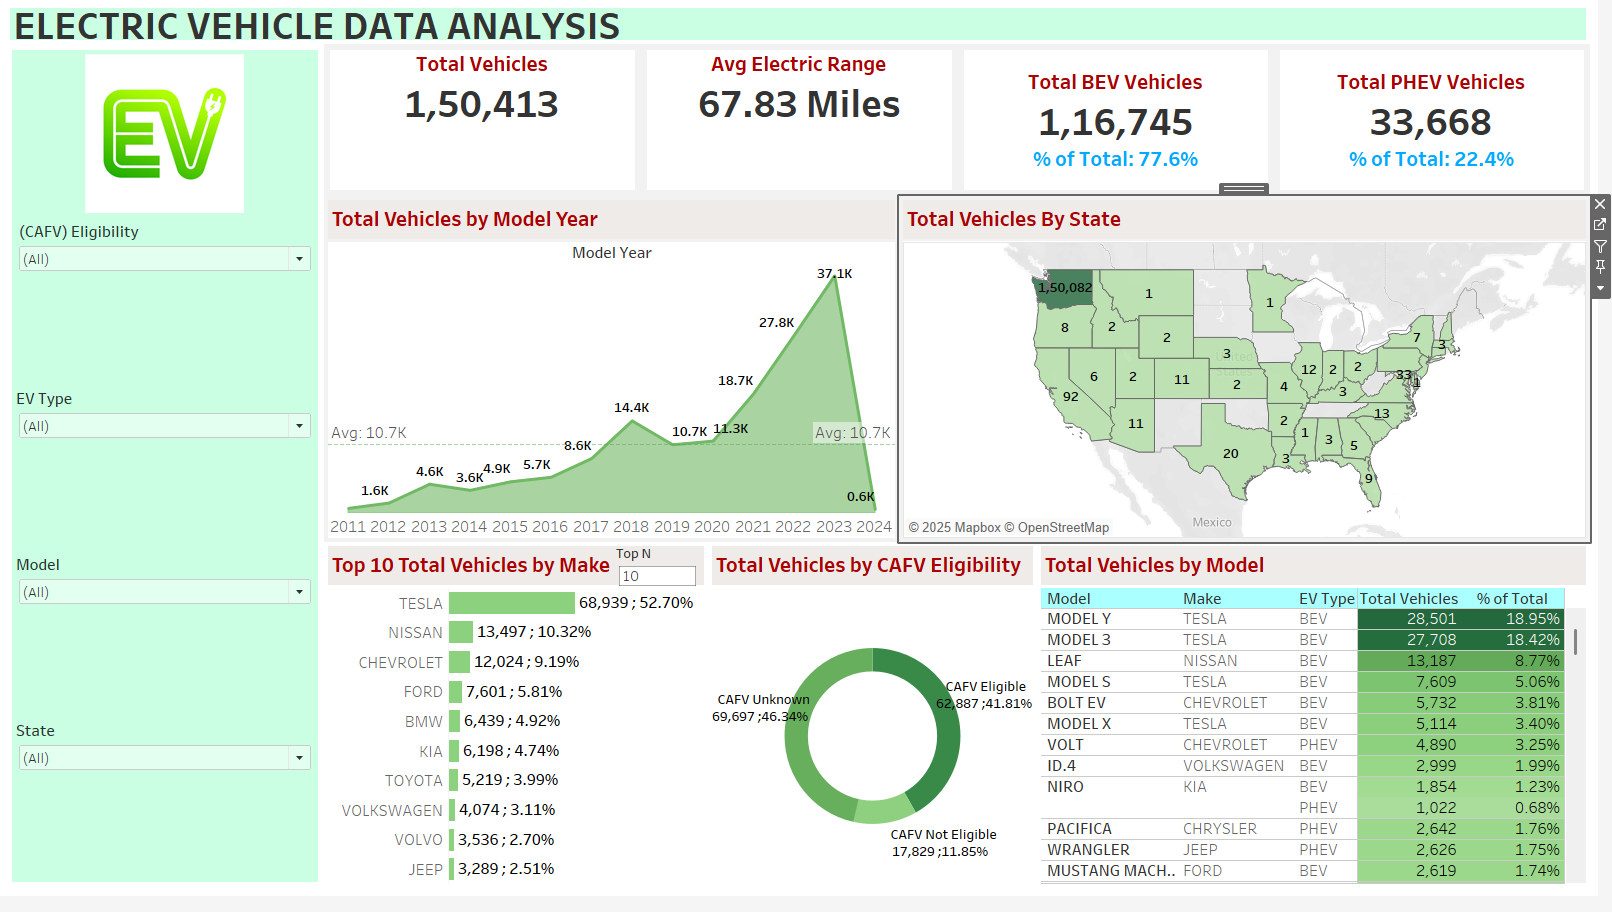

What the dashboard file says about the page in this screenshot:
{"tool":"tableau","page":{"name":"Dashboard 1","canvas":[1600,900],"ordinal":0},"visuals":[{"type":"title","box":[8,8,1584,40]},{"type":"worksheet","title":"Total Vehicles","mark":"Automatic","box":[326,48,317,152]},{"type":"worksheet","title":"Avg Electric Range","mark":"Automatic","box":[643,48,317,152]},{"type":"worksheet","title":"Total BEV Vehicles","mark":"Automatic","box":[960,48,316,152]},{"type":"worksheet","title":"Total PHEV Vehicles","mark":"Automatic","box":[1276,48,316,152]},{"type":"image","param":"C:/Users/vipas/Downloads/EV_LOGO.jpg","box":[14,54,306,167]},{"type":"worksheet","title":"Total Vehicles by Model Year","mark":"Area","rows":["Calculation_1383168092872749056","Calculation_1383168092872749056"],"cols":["Model Year"],"box":[326,200,575,346]},{"type":"worksheet","title":"Total Vehicles By State ","mark":"Multipolygon","box":[901,200,691,346]},{"type":"filter","title":"Total Vehicles by Model Year","param":"[federated.0ad7g8i0dp1rbg191n68301n4tsq].[none:Clean Alternative Fuel Vehicle (C","box":[14,221,306,167]},{"type":"filter","title":"Total Vehicles by Model Year","param":"[federated.0ad7g8i0dp1rbg191n68301n4tsq].[none:Electric Vehicle Type:nk]","box":[14,388,306,166]},{"type":"worksheet","title":"Top 10 Total Vehicles by Make","mark":"Automatic","rows":["Make"],"cols":["Calculation_1383168092872749056"],"box":[326,546,384,346]},{"type":"worksheet","title":"Total Vehicles by CAFV Eligibility","mark":"Pie","rows":["Calculation_1229201280866852865","Calculation_1229201280866852865"],"box":[710,546,329,346]},{"type":"worksheet","title":"Total Vehicles by Model ","mark":"Square","rows":["Model","Make","Electric Vehicle Type"],"box":[1039,546,553,346]},{"type":"parameter","param":"[Parameters].[Parameter 1]","box":[618,548,83,55]},{"type":"filter","title":"Total Vehicles by Model Year","param":"[federated.0ad7g8i0dp1rbg191n68301n4tsq].[none:Model:nk]","box":[14,554,306,166]},{"type":"filter","title":"Total Vehicles by Model Year","param":"[federated.0ad7g8i0dp1rbg191n68301n4tsq].[none:State:nk]","box":[14,720,306,166]}]}

Visuals, with their boxes in screenshot pixels (x1, y1, x2, y2), scaled from the page's 1600x900 canvas onto the 1612x912 screenshot:
title: (left=8, top=8, right=1604, bottom=49)
"Total Vehicles" worksheet: (left=328, top=49, right=648, bottom=203)
"Avg Electric Range" worksheet: (left=648, top=49, right=967, bottom=203)
"Total BEV Vehicles" worksheet: (left=967, top=49, right=1286, bottom=203)
"Total PHEV Vehicles" worksheet: (left=1286, top=49, right=1604, bottom=203)
image: (left=14, top=55, right=322, bottom=224)
"Total Vehicles by Model Year" worksheet (Area marks): (left=328, top=203, right=908, bottom=553)
"Total Vehicles By State " worksheet (Multipolygon marks): (left=908, top=203, right=1604, bottom=553)
"Total Vehicles by Model Year" filter: (left=14, top=224, right=322, bottom=393)
"Total Vehicles by Model Year" filter: (left=14, top=393, right=322, bottom=561)
"Top 10 Total Vehicles by Make" worksheet: (left=328, top=553, right=715, bottom=904)
"Total Vehicles by CAFV Eligibility" worksheet (Pie marks): (left=715, top=553, right=1047, bottom=904)
"Total Vehicles by Model " worksheet (Square marks): (left=1047, top=553, right=1604, bottom=904)
parameter: (left=623, top=555, right=706, bottom=611)
"Total Vehicles by Model Year" filter: (left=14, top=561, right=322, bottom=730)
"Total Vehicles by Model Year" filter: (left=14, top=730, right=322, bottom=898)
